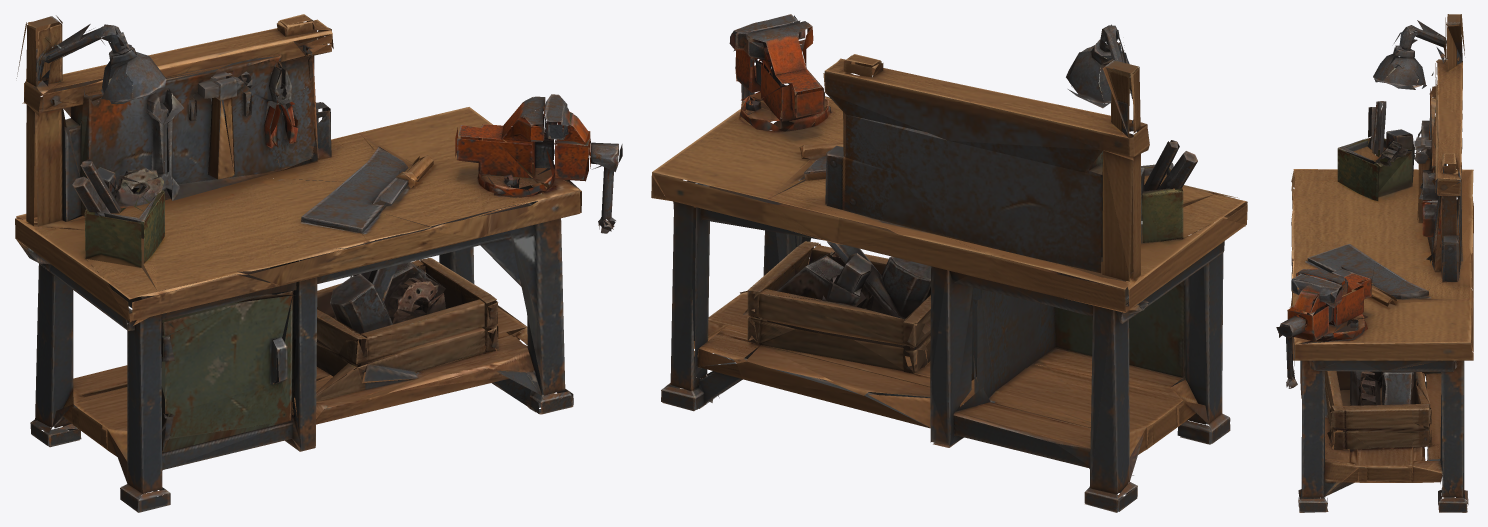
The model's file is workbench_lod1.glb.
3 views of the same model, side by side, from view 1: azimuth 30°, elevation 25°; view 2: azimuth 150°, elevation 25°; view 3: azimuth 270°, elevation 25° (orthographic). The views are drawn at different scales.
Parts seen in each view (by area): view 1: LOD1; view 2: LOD1; view 3: LOD1.
Boxes of the visible parts, x1=… form: LOD1: x1=15, y1=14, x2=622, y2=512; LOD1: x1=651, y1=14, x2=1247, y2=512; LOD1: x1=1276, y1=14, x2=1473, y2=512.
Bounding box in the file's own units: 1.81 × 1.52 × 0.7985.
1 material, 1 textured.
